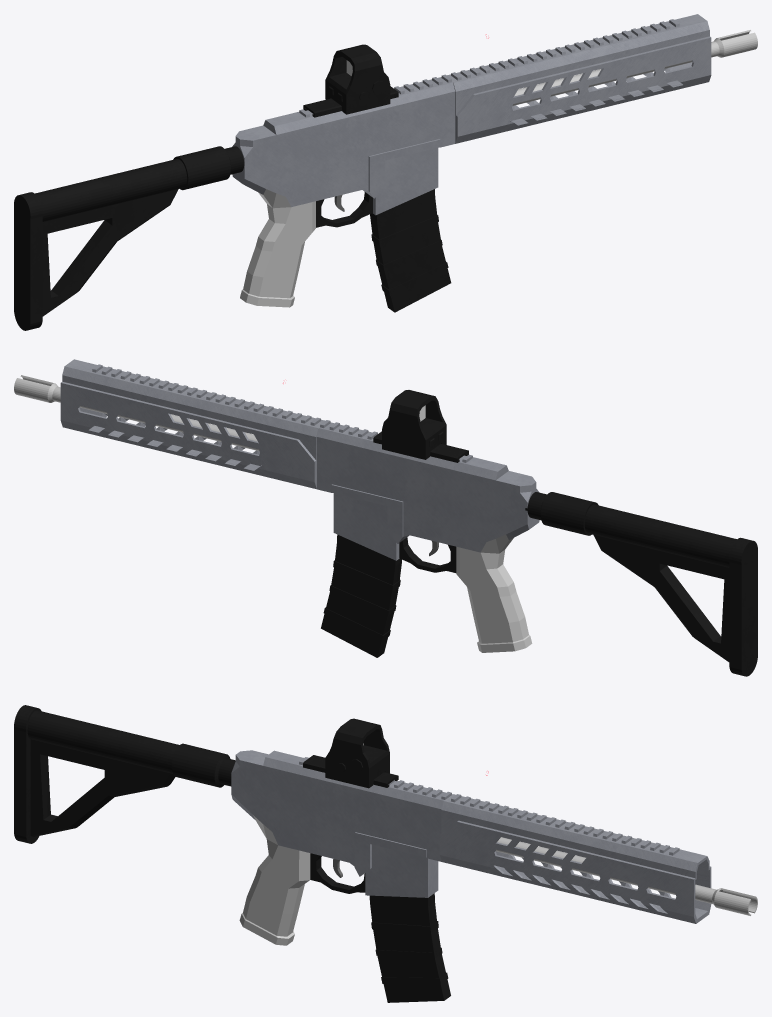
File: mcx virtus.fbx
The picture shows the model from 3 angles, top to bottom: view 1: azimuth 30°, elevation 25°; view 2: azimuth 150°, elevation 25°; view 3: azimuth 330°, elevation 25°; orthographic projection.
Visible parts, largest first — view 1: Cube.005, Cylinder, Cube.001, Cube.006, Cube.009, Cube.010, Cube.002, Cube.004, Cylinder.001, Cube.003, Cube.008, Cube.014; view 2: Cube.005, Cylinder, Cube.001, Cube.006, Cube.009, Cube.010, Cube.002, Cube.004, Cylinder.001, Cube.003, Cube.008, Cube.014; view 3: Cube.005, Cube.001, Cylinder, Cube.006, Cube.009, Cube.010, Cube.002, Cylinder.001, Cube.004, Cube.003, Cube.008, Cube.014.
Part boxes in pixels (x1,y1,x2,y2): Cube.005: [447, 14, 711, 143]; Cylinder: [14, 146, 244, 330]; Cube.001: [232, 77, 455, 206]; Cube.006: [370, 189, 451, 312]; Cube.009: [240, 189, 315, 307]; Cube.010: [325, 44, 390, 114]; Cube.002: [373, 148, 438, 215]; Cube.004: [299, 19, 679, 117]; Cylinder.001: [512, 30, 757, 105]; Cube.003: [363, 139, 440, 198]; Cube.008: [316, 192, 372, 227]; Cube.014: [303, 86, 398, 117]; Cube.005: [60, 359, 324, 489]; Cylinder: [525, 492, 757, 676]; Cube.001: [317, 422, 539, 552]; Cube.006: [321, 534, 401, 657]; Cube.009: [456, 534, 532, 652]; Cube.010: [382, 390, 446, 459]; Cube.002: [333, 493, 399, 560]; Cube.004: [92, 364, 472, 462]; Cylinder.001: [14, 375, 259, 451]; Cube.003: [331, 484, 409, 543]; Cube.008: [399, 537, 456, 572]; Cube.014: [373, 431, 468, 462]; Cube.005: [439, 794, 711, 923]; Cube.001: [231, 750, 452, 866]; Cylinder: [14, 705, 235, 843]; Cube.006: [369, 893, 450, 1002]; Cube.009: [239, 815, 310, 945]; Cube.010: [325, 718, 389, 788]; Cube.002: [365, 844, 438, 897]; Cylinder.001: [496, 837, 757, 915]; Cube.004: [299, 757, 679, 855]; Cube.003: [354, 832, 426, 876]; Cube.008: [310, 853, 365, 893]; Cube.014: [303, 755, 398, 787].
Size of the model in its own units: 1755 by 612 by 90.75.
